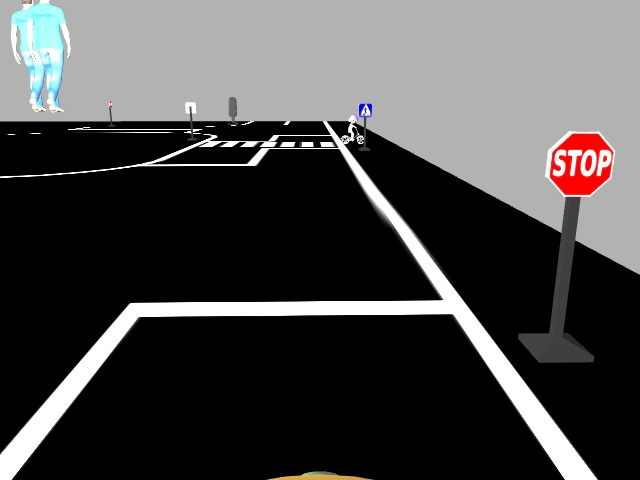Stop: (544, 129, 617, 199)
